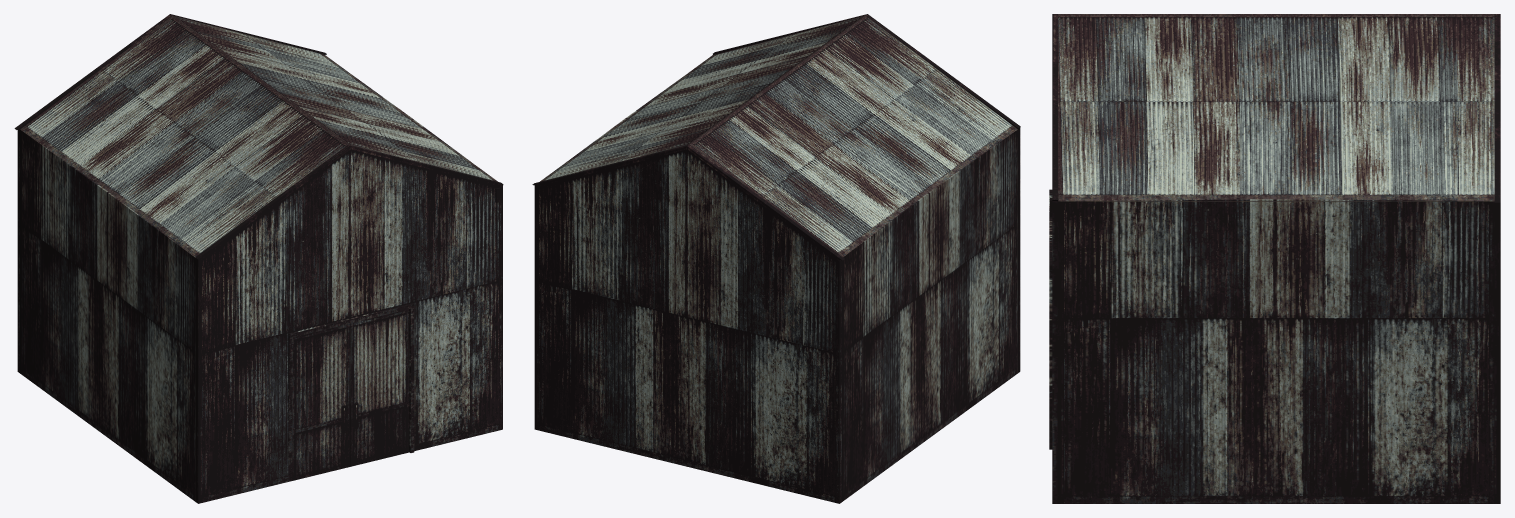
File: SM_EC_Barn_00.fbx
The picture shows the model from 3 angles, left to right: view 1: azimuth 30°, elevation 25°; view 2: azimuth 150°, elevation 25°; view 3: azimuth 270°, elevation 25°; orthographic projection. The views are drawn at different scales.
Visible parts, largest first — view 1: SM_EC_Barn_00, SM_EC_Barn_Door_00, SM_EC_Barn_Door_01; view 2: SM_EC_Barn_00; view 3: SM_EC_Barn_00.
Boxes of the visible parts, box(x1,y1,x2,y2) form: SM_EC_Barn_00: box(14, 14, 503, 503); SM_EC_Barn_Door_00: box(350, 309, 409, 466); SM_EC_Barn_Door_01: box(292, 323, 350, 480); SM_EC_Barn_00: box(532, 14, 1020, 503); SM_EC_Barn_00: box(1049, 14, 1500, 503).
Bounding box in the file's own units: 7.73 × 7.84 × 7.62.
